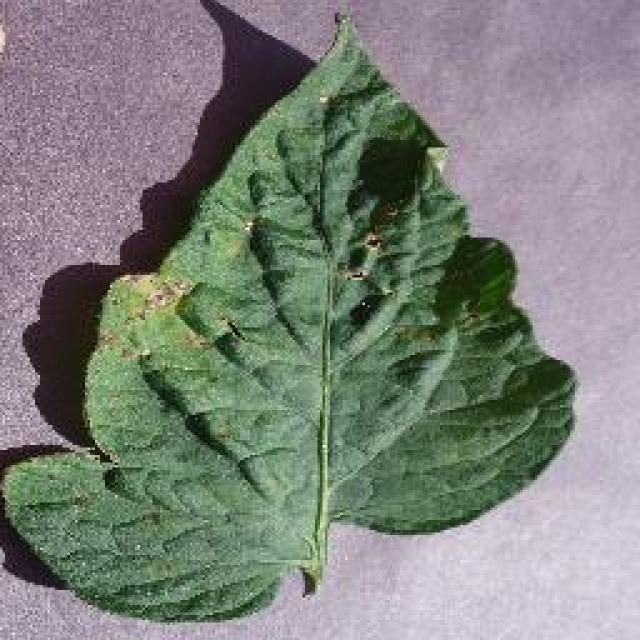Tomato___Target_Spot: (5, 15, 572, 620)
